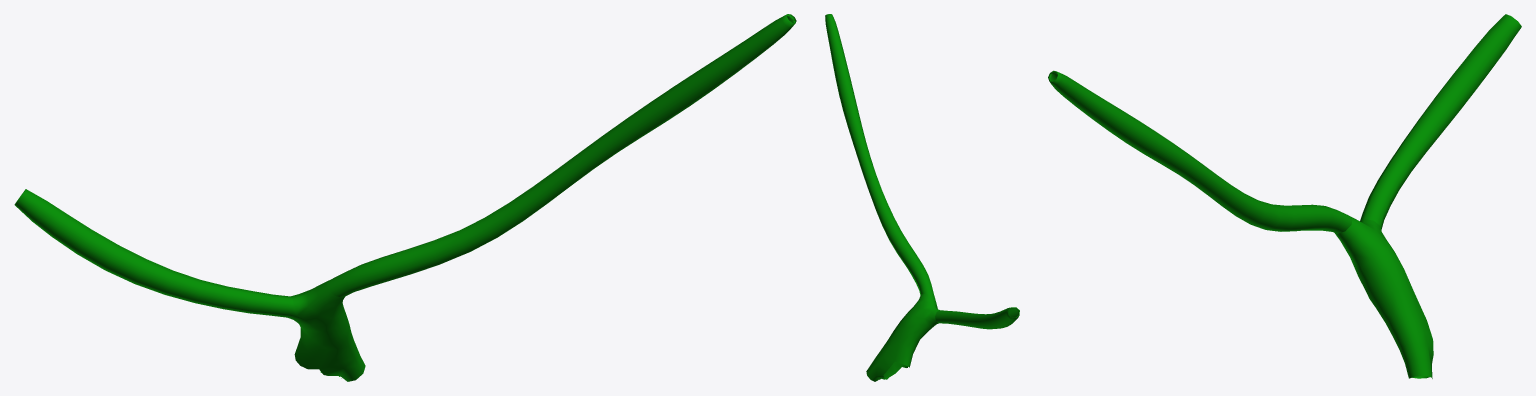
Rendered from VH_F_Ducts_of_Liver.glb.
3 renders of one model, left to right at view 1: azimuth 30°, elevation 25°; view 2: azimuth 150°, elevation 25°; view 3: azimuth 270°, elevation 25°, orthographic. The views are drawn at different scales.
Parts seen in each view (by area): view 1: VH_F_left_hepatic_duct, VH_F_right_hepatic_duct, VH_F_common_hepatic_duct; view 2: VH_F_left_hepatic_duct, VH_F_common_hepatic_duct, VH_F_right_hepatic_duct; view 3: VH_F_left_hepatic_duct, VH_F_common_hepatic_duct, VH_F_right_hepatic_duct.
Part boxes in pixels (box(x1,y1,x2,y2)): VH_F_left_hepatic_duct: box(326, 14, 796, 297); VH_F_right_hepatic_duct: box(14, 189, 293, 317); VH_F_common_hepatic_duct: box(287, 280, 365, 381); VH_F_left_hepatic_duct: box(825, 14, 933, 295); VH_F_common_hepatic_duct: box(866, 293, 939, 381); VH_F_right_hepatic_duct: box(935, 307, 1019, 329); VH_F_left_hepatic_duct: box(1048, 70, 1352, 233); VH_F_common_hepatic_duct: box(1334, 216, 1433, 378); VH_F_right_hepatic_duct: box(1360, 14, 1521, 229).
Bounding box in the file's own units: 0.0358 × 0.0267 × 0.026.
